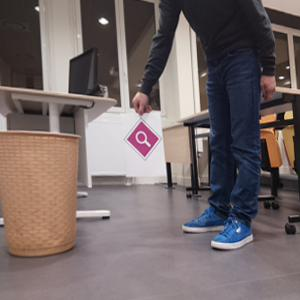medium: (1, 132, 80, 260)
